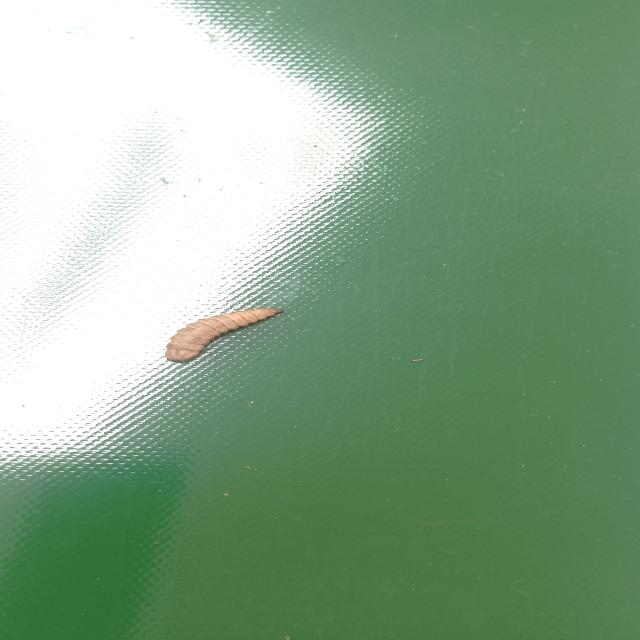Maggot: (162, 306, 280, 366)
